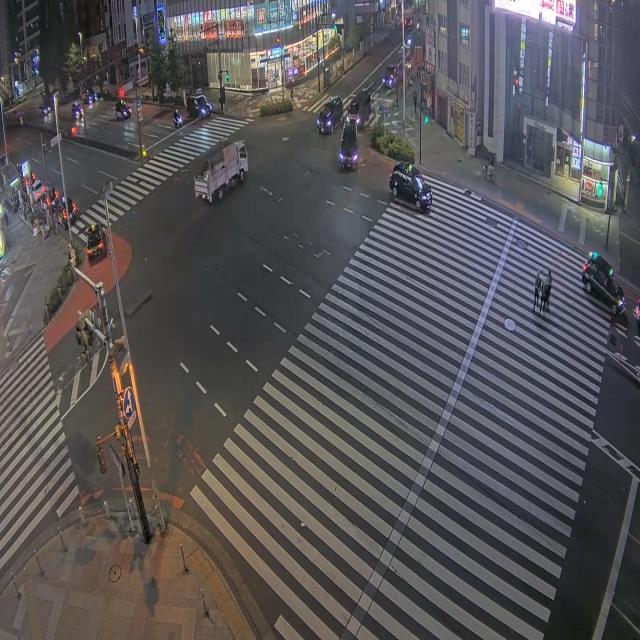car: (582, 252, 624, 315), (390, 161, 432, 211), (317, 96, 343, 134), (339, 121, 358, 170), (348, 89, 371, 129), (86, 224, 105, 259), (187, 95, 213, 118), (55, 203, 75, 229), (60, 195, 77, 222), (382, 65, 396, 88), (115, 100, 131, 119), (32, 180, 45, 201), (83, 90, 97, 105), (41, 99, 52, 115), (72, 102, 82, 119), (405, 17, 413, 29), (636, 300, 639, 328)
motorcycle: (174, 114, 182, 128)
